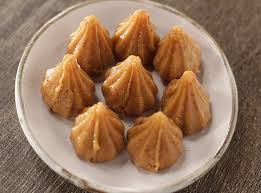modak: (51, 13, 207, 167)
